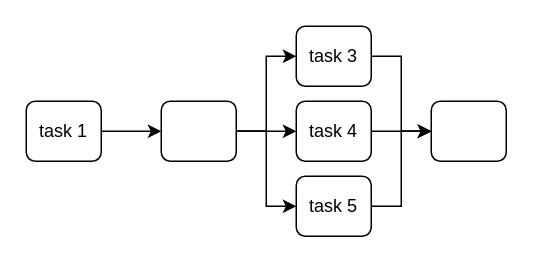
This 533x263 diagram has some shape labels left out. Here are the shapes that lost their labels. From the top down, the centre of each, then its label:
At pixel 198 130: "task 2".
At pixel 468 130: "task 6".
